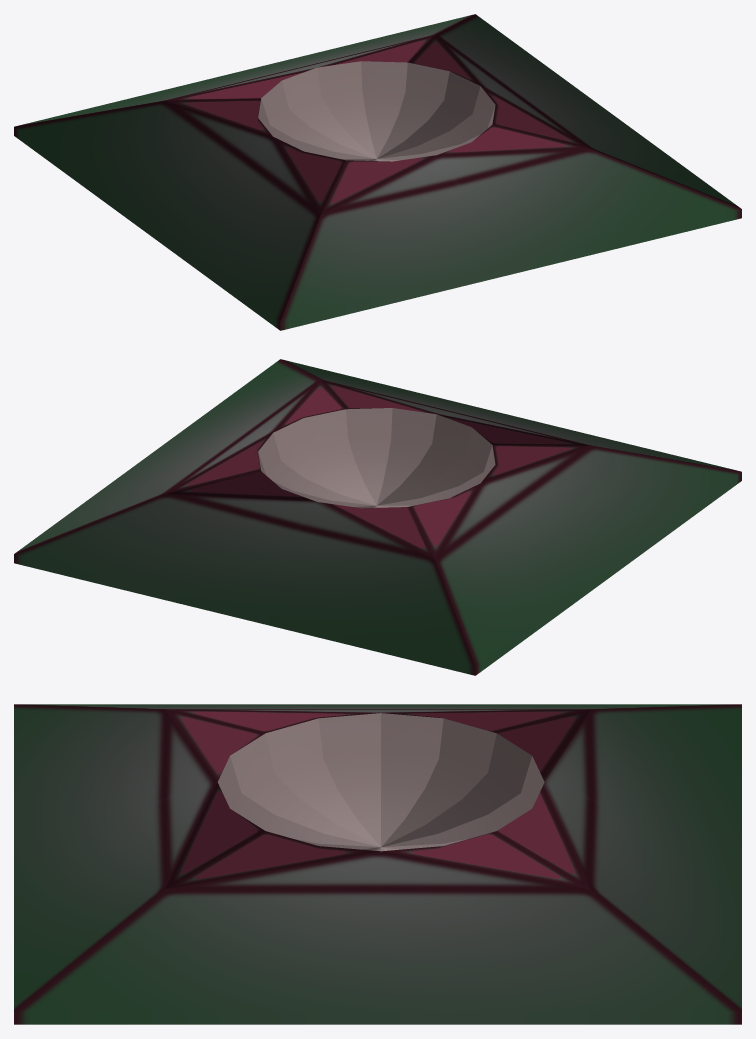
File: Ball_Ground.fbx
3 renders of one model, top to bottom at view 1: azimuth 30°, elevation 25°; view 2: azimuth 150°, elevation 25°; view 3: azimuth 270°, elevation 25°, orthographic. The views are drawn at different scales.
Visible parts, largest first — view 1: Cube.003; view 2: Cube.003; view 3: Cube.003.
Boxes of the visible parts, <box> form: Cube.003: <box>14,14,741,330</box>; Cube.003: <box>14,359,741,675</box>; Cube.003: <box>14,704,741,1024</box>.
Size of the model in its own units: 57.35 by 7.7 by 57.35.
